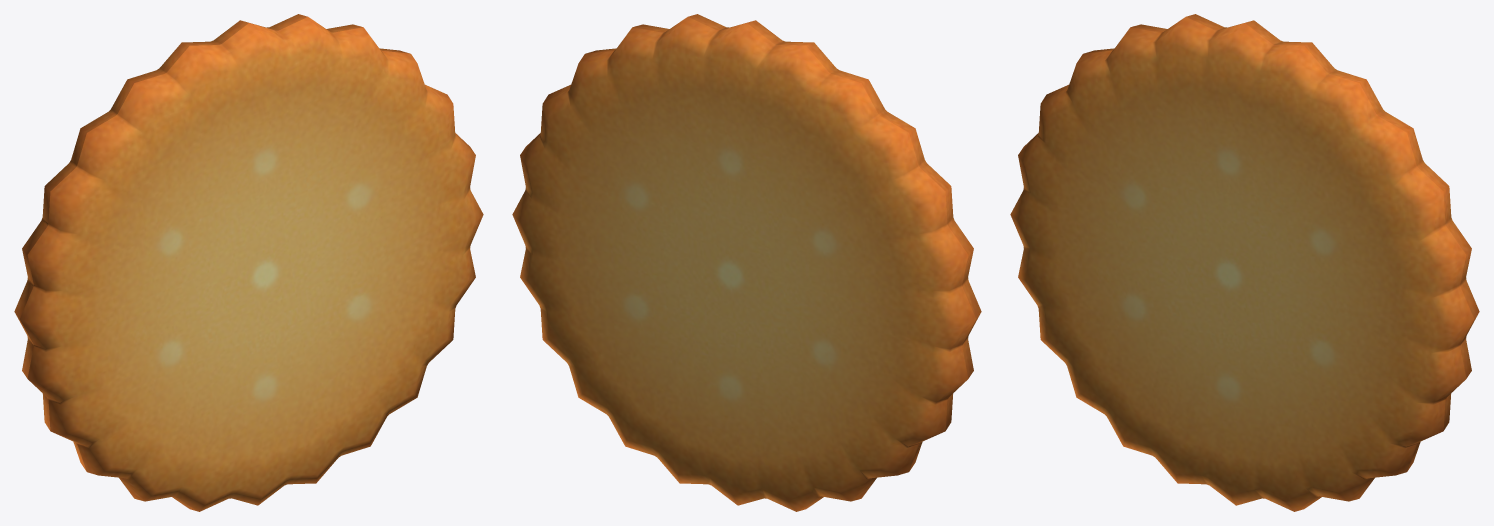
File: RoundCracker_1.fbx
3 views of the same model, side by side, from view 1: azimuth 30°, elevation 25°; view 2: azimuth 150°, elevation 25°; view 3: azimuth 330°, elevation 25° (orthographic).
Parts seen in each view (by area): view 1: RoundCracker_1; view 2: RoundCracker_1; view 3: RoundCracker_1.
Part boxes in pixels (bbox=[...]): RoundCracker_1: bbox=[14, 14, 483, 511]; RoundCracker_1: bbox=[512, 14, 981, 511]; RoundCracker_1: bbox=[1010, 14, 1479, 511].
Bounding box in the file's own units: 0.0499 × 0.0499 × 0.00613.
Materials: 1 (1 with a texture image).
